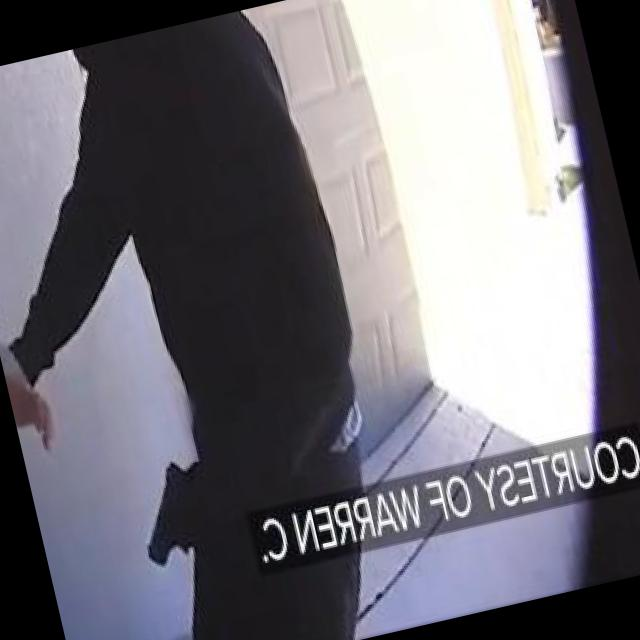Guns: (117, 449, 223, 580)
